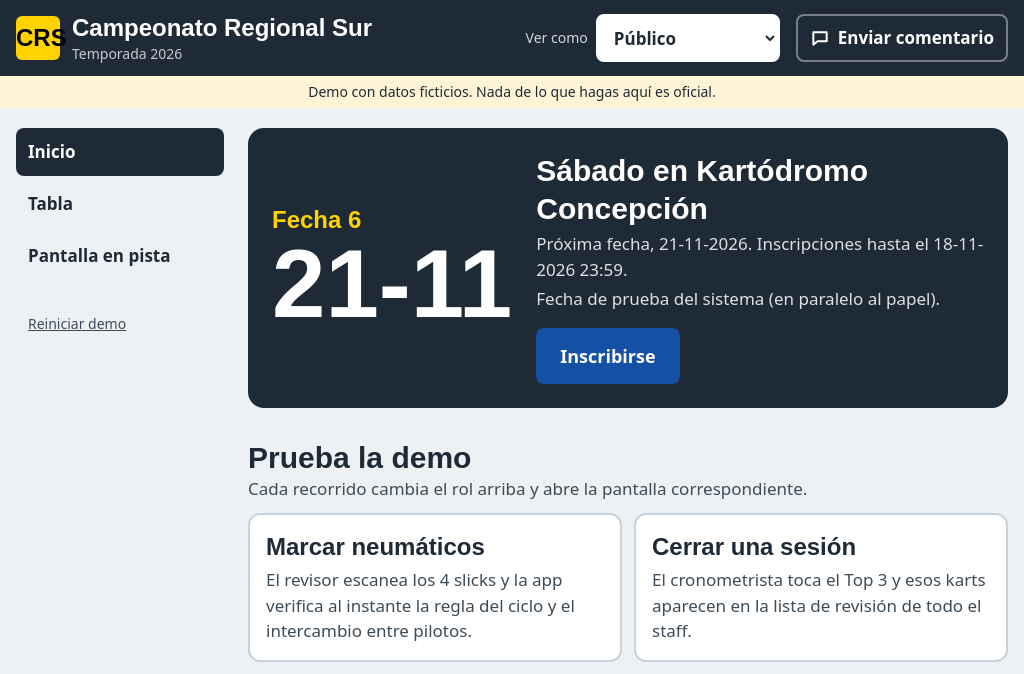
Scenario: acciones ocultas a roles sin el permiso (QA, SPEC 4.2 y 11.1) › P-7: el revisor técnico (solo exceptions.request) ve la excepción pendiente pero no Aprobar/Rechazar
Select "Revisor técnico" in the dropdown labelled "Ver como" at coordinates (688, 38), box [596,14,780,62]
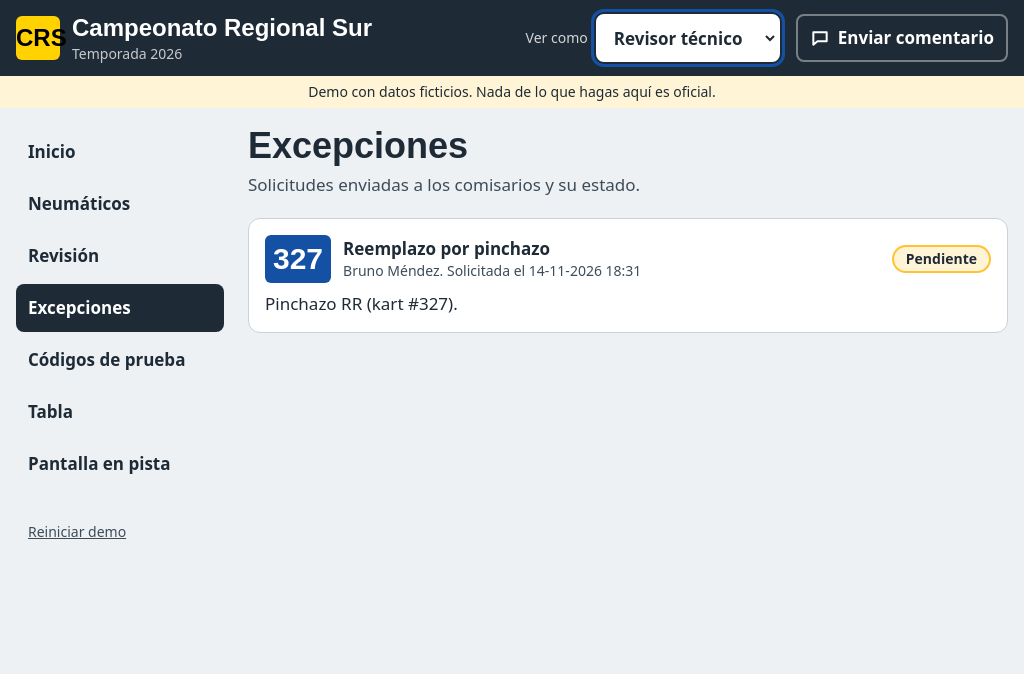
Expected: the button "Aprobar" is not shown
Now the text "Pinchazo RR (kart #327)." is shown, box [265,292,458,314]
Select "Comisario" in the dropdown labelled "Ver como" at coordinates (688, 38), box [596,14,780,62]
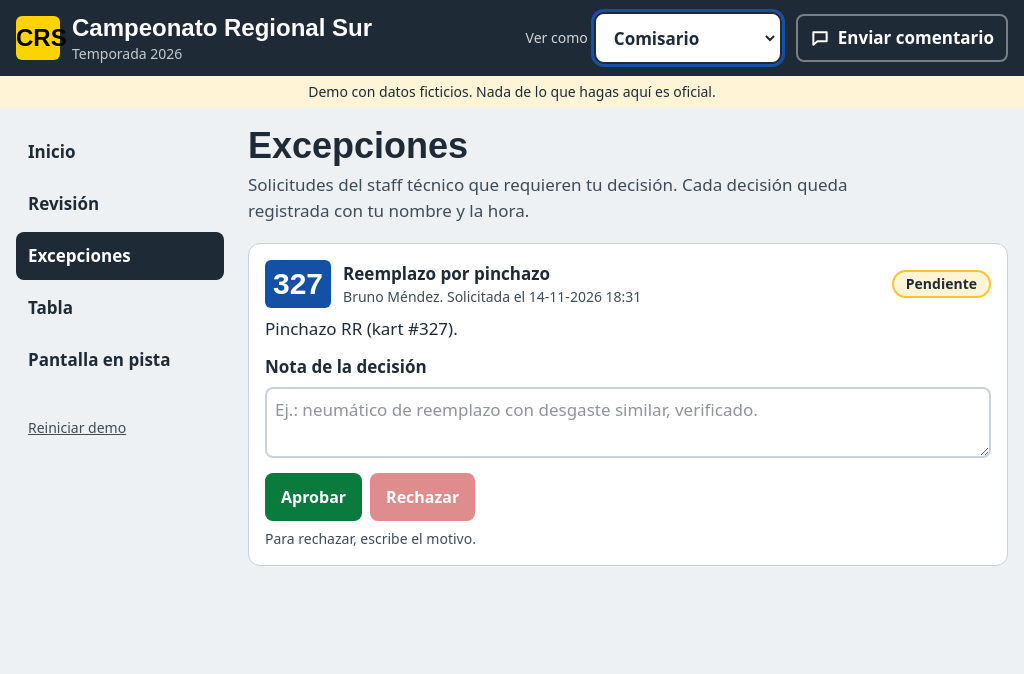
Now the button "Aprobar" is shown, box [265,472,362,520]
